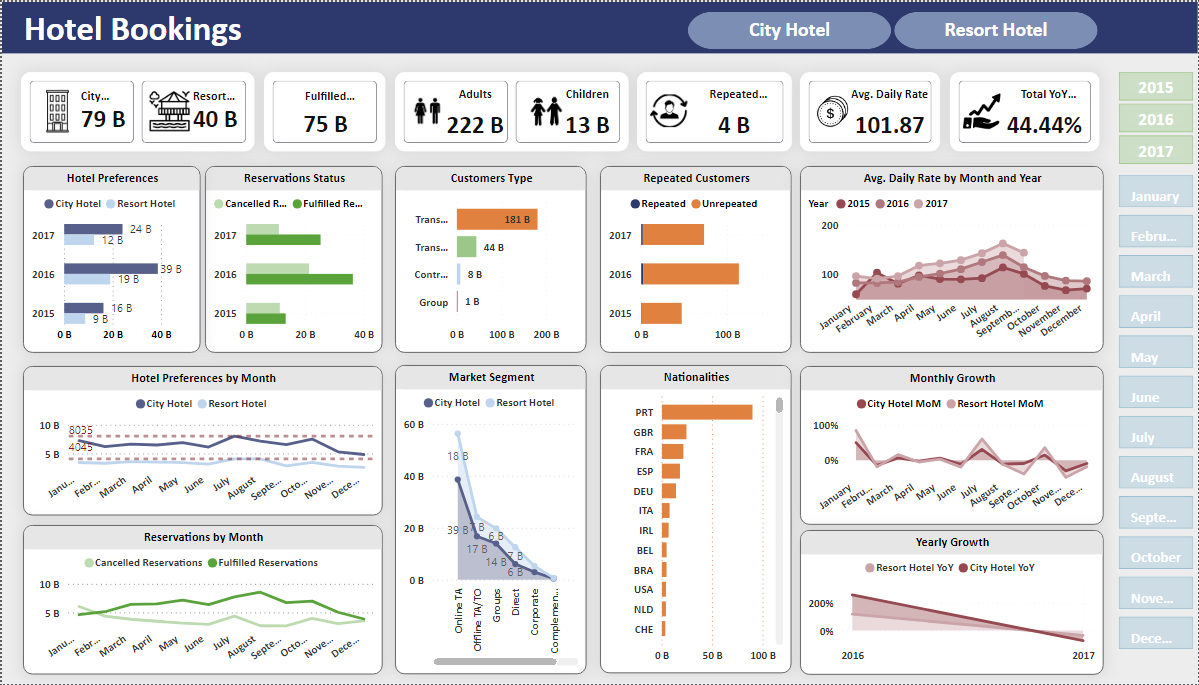

The page's visual inventory and layout, read from the dashboard file:
{"tool":"powerbi","page":{"name":"Overview","canvas":[1280,730],"ordinal":0},"visuals":[{"type":"shape","box":[0,0,1280,55.5],"z":0},{"type":"textbox","box":[0,0,280,70],"z":1000},{"type":"lineChart","title":"Hotel Preferences by Month","fields":{"Category":["Date_Table.MonthName"],"Y":["Measures_Table.City Hotel","Measures_Table.Resort Hotel"]},"box":[22.8,389.6,385,160],"z":2000},{"type":"stackedAreaChart","title":"Market Segment","fields":{"Y":["Measures_Table.City Hotel","Measures_Table.Resort Hotel"],"Category":["hotel_bookings.market_segment"]},"box":[420.2,388,205,330.6],"z":3000},{"type":"advancedSlicerVisual","fields":{"Values":["Date_Table.Year"]},"box":[1190,70,90,110],"z":4000},{"type":"advancedSlicerVisual","fields":{"Values":["Date_Table.MonthName"]},"box":[1190,180,90,520],"z":5000},{"type":"cardVisual","title":"Total Customers","fields":{"Data":["Measures_Table.City Hotel","Measures_Table.Resort Hotel"]},"box":[20,75,250,85],"z":6000},{"type":"advancedSlicerVisual","fields":{"Values":["hotel_bookings.hotel"]},"box":[728.9,5.6,450,50],"z":7000},{"type":"cardVisual","title":"Total Customers","fields":{"Data":["Measures_Table.Fulfilled Reservations"]},"box":[280,75,130,85],"z":8000},{"type":"cardVisual","title":"Repeated Customers","fields":{"Data":["Measures_Table.Repeated Customer"]},"box":[679.6,75,166.5,85],"z":9000},{"type":"cardVisual","title":"Total Customers","fields":{"Data":["Measures_Table.Adults","Measures_Table.Children"]},"box":[420.2,75,250,85],"z":10000},{"type":"barChart","title":"Repeated Customers","fields":{"Y":["Measures_Table.TotalCustomers"],"Category":["Date_Table.Year"],"Series":["hotel_bookings.Repated Status"]},"box":[640.3,175.4,205.1,200],"z":11000},{"type":"clusteredBarChart","title":"Reservations Status","fields":{"Category":["Date_Table.Year"],"Y":["Measures_Table.Cancelled Reservations","Measures_Table.Fulfilled Reservations"]},"box":[217,175.6,190,200],"z":12000},{"type":"areaChart","title":"Reservations by Month","fields":{"Category":["Date_Table.MonthName"],"Y":["Measures_Table.Cancelled Reservations","Measures_Table.Fulfilled Reservations"]},"box":[22.4,559.5,385,160],"z":13000},{"type":"clusteredBarChart","title":"Hotel Preferences","fields":{"Category":["Date_Table.Year"],"Y":["Measures_Table.City Hotel","Measures_Table.Resort Hotel"]},"box":[22.5,175.7,190,200],"z":14000},{"type":"barChart","title":"Customers Type","fields":{"Category":["hotel_bookings.customer_type"],"Y":["Measures_Table.TotalCustomers"]},"box":[420.2,175.6,205,200],"z":15000},{"type":"clusteredBarChart","title":"Nationalities","fields":{"Category":["hotel_bookings.country"],"Y":["Measures_Table.TotalCustomers"]},"box":[640.3,388.5,205.1,330.4],"z":16000},{"type":"cardVisual","title":"Total Customers","fields":{"Data":["Measures_Table.Avg. Daily Rate"]},"box":[854.1,75,150.4,85],"z":17000},{"type":"stackedAreaChart","title":"Monthly Growth","fields":{"Category":["Date_Table.MonthName"],"Y":["Measures_Table.City Hotel MoM","Measures_Table.Resort Hotel MoM"]},"box":[854.4,389.6,325,170],"z":18000},{"type":"stackedAreaChart","title":"Yearly Growth","fields":{"Category":["Date_Table.Year"],"Y":["Measures_Table.Resort Hotel Year","Measures_Table.City Hotel Year"]},"box":[854.7,565.4,325,154.6],"z":19000},{"type":"areaChart","title":"Avg. Daily Rate by Month and Year","fields":{"Category":["Date_Table.MonthName"],"Y":["Measures_Table.Avg. Daily Rate"],"Series":["Date_Table.Year"]},"box":[854.1,175.6,325,200],"z":20000},{"type":"cardVisual","title":"Total Customers","fields":{"Data":["Measures_Table.Total YoY Growth"]},"box":[1015,75,160,85],"z":21000}]}

Visuals, with their boxes in screenshot pixels (x1, y1, x2, y2), scaled from the page's 1280x730 canvas onto the 1199x685 screenshot:
shape: x1=0, y1=0, x2=1198, y2=52
textbox: x1=0, y1=0, x2=262, y2=66
"Hotel Preferences by Month" lineChart: x1=21, y1=366, x2=382, y2=516
"Market Segment" stackedAreaChart: x1=394, y1=364, x2=586, y2=674
advancedSlicerVisual - Date_Table.Year: x1=1115, y1=66, x2=1198, y2=169
advancedSlicerVisual - Date_Table.MonthName: x1=1115, y1=169, x2=1198, y2=657
"Total Customers" cardVisual: x1=19, y1=70, x2=253, y2=150
advancedSlicerVisual - hotel_bookings.hotel: x1=683, y1=5, x2=1104, y2=52
"Total Customers" cardVisual: x1=262, y1=70, x2=384, y2=150
"Repeated Customers" cardVisual: x1=637, y1=70, x2=793, y2=150
"Total Customers" cardVisual: x1=394, y1=70, x2=628, y2=150
"Repeated Customers" barChart: x1=600, y1=165, x2=792, y2=352
"Reservations Status" clusteredBarChart: x1=203, y1=165, x2=381, y2=352
"Reservations by Month" areaChart: x1=21, y1=525, x2=382, y2=675
"Hotel Preferences" clusteredBarChart: x1=21, y1=165, x2=199, y2=353
"Customers Type" barChart: x1=394, y1=165, x2=586, y2=352
"Nationalities" clusteredBarChart: x1=600, y1=365, x2=792, y2=675
"Total Customers" cardVisual: x1=800, y1=70, x2=941, y2=150
"Monthly Growth" stackedAreaChart: x1=800, y1=366, x2=1105, y2=525
"Yearly Growth" stackedAreaChart: x1=801, y1=531, x2=1105, y2=676
"Avg. Daily Rate by Month and Year" areaChart: x1=800, y1=165, x2=1104, y2=352
"Total Customers" cardVisual: x1=951, y1=70, x2=1101, y2=150
